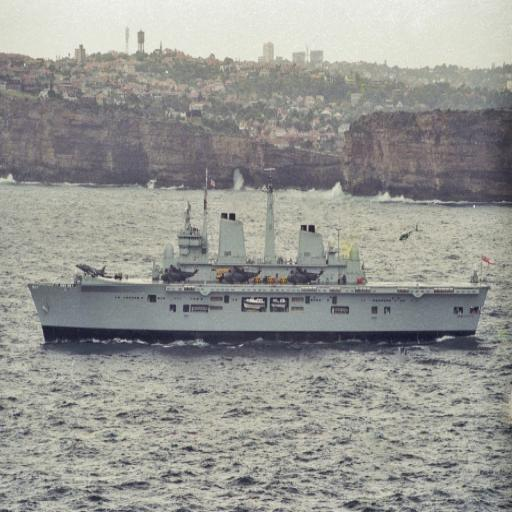Portanaves: (26, 163, 495, 352)
